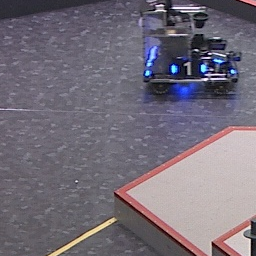Blue: (170, 59, 206, 79)
Robot: (138, 1, 241, 98)
